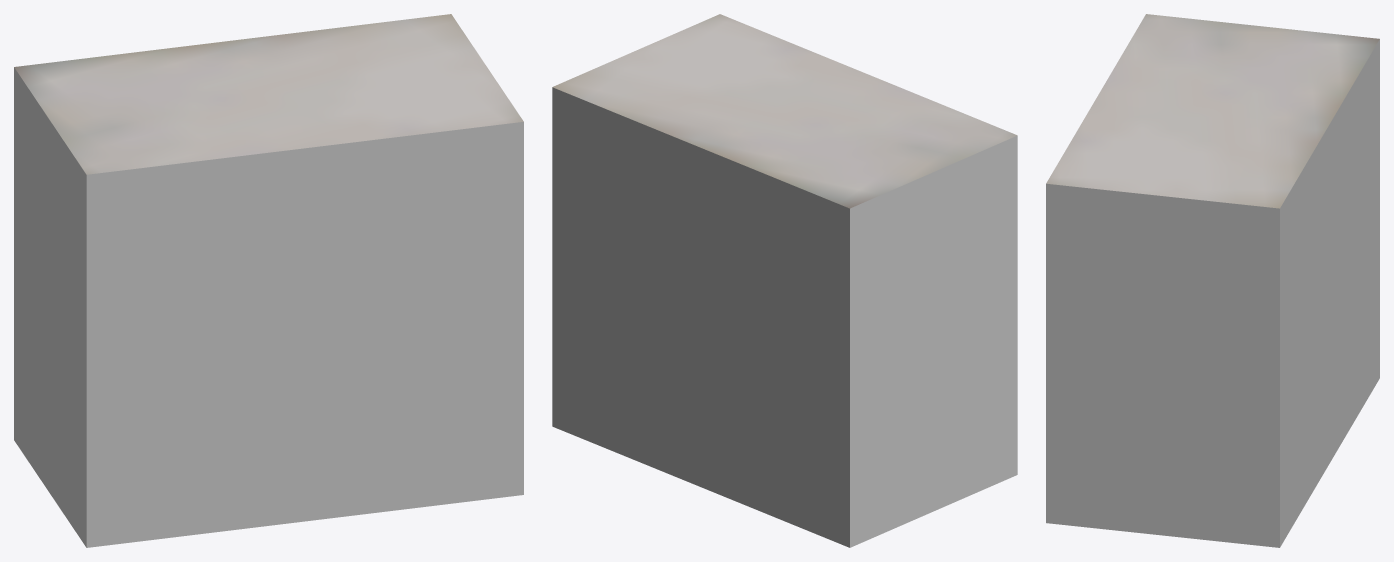
Rendered from DEBW_0010007Twq0.gltf.
3 views of the same model, side by side, from view 1: azimuth 30°, elevation 25°; view 2: azimuth 150°, elevation 25°; view 3: azimuth 270°, elevation 25° (orthographic). The views are drawn at different scales.
Parts seen in each view (by area): view 1: Z_UP; view 2: Z_UP; view 3: Z_UP.
Boxes of the visible parts, x1,y1,x2,y2 form: Z_UP: (14, 14, 523, 547); Z_UP: (552, 14, 1017, 547); Z_UP: (1046, 14, 1379, 547).
Bounding box in the file's own units: 3.13 × 2.55 × 2.27.
2 materials, 1 textured.
